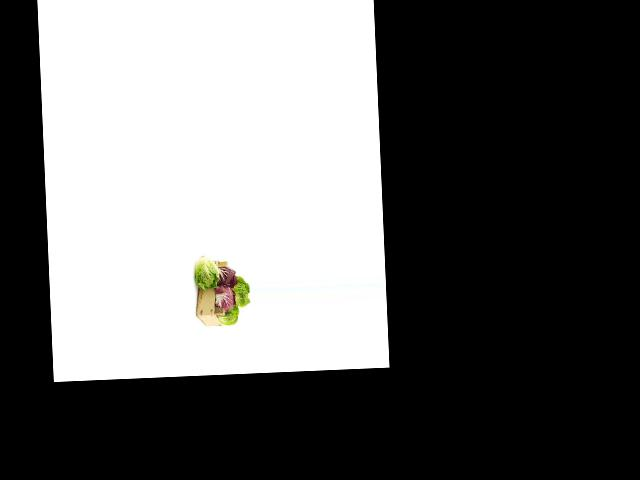lettuce: (228, 275, 250, 307)
